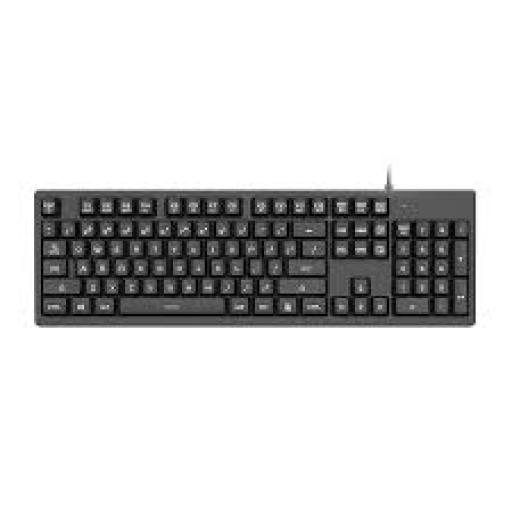KEYBOARD-2: (36, 189, 473, 323)
